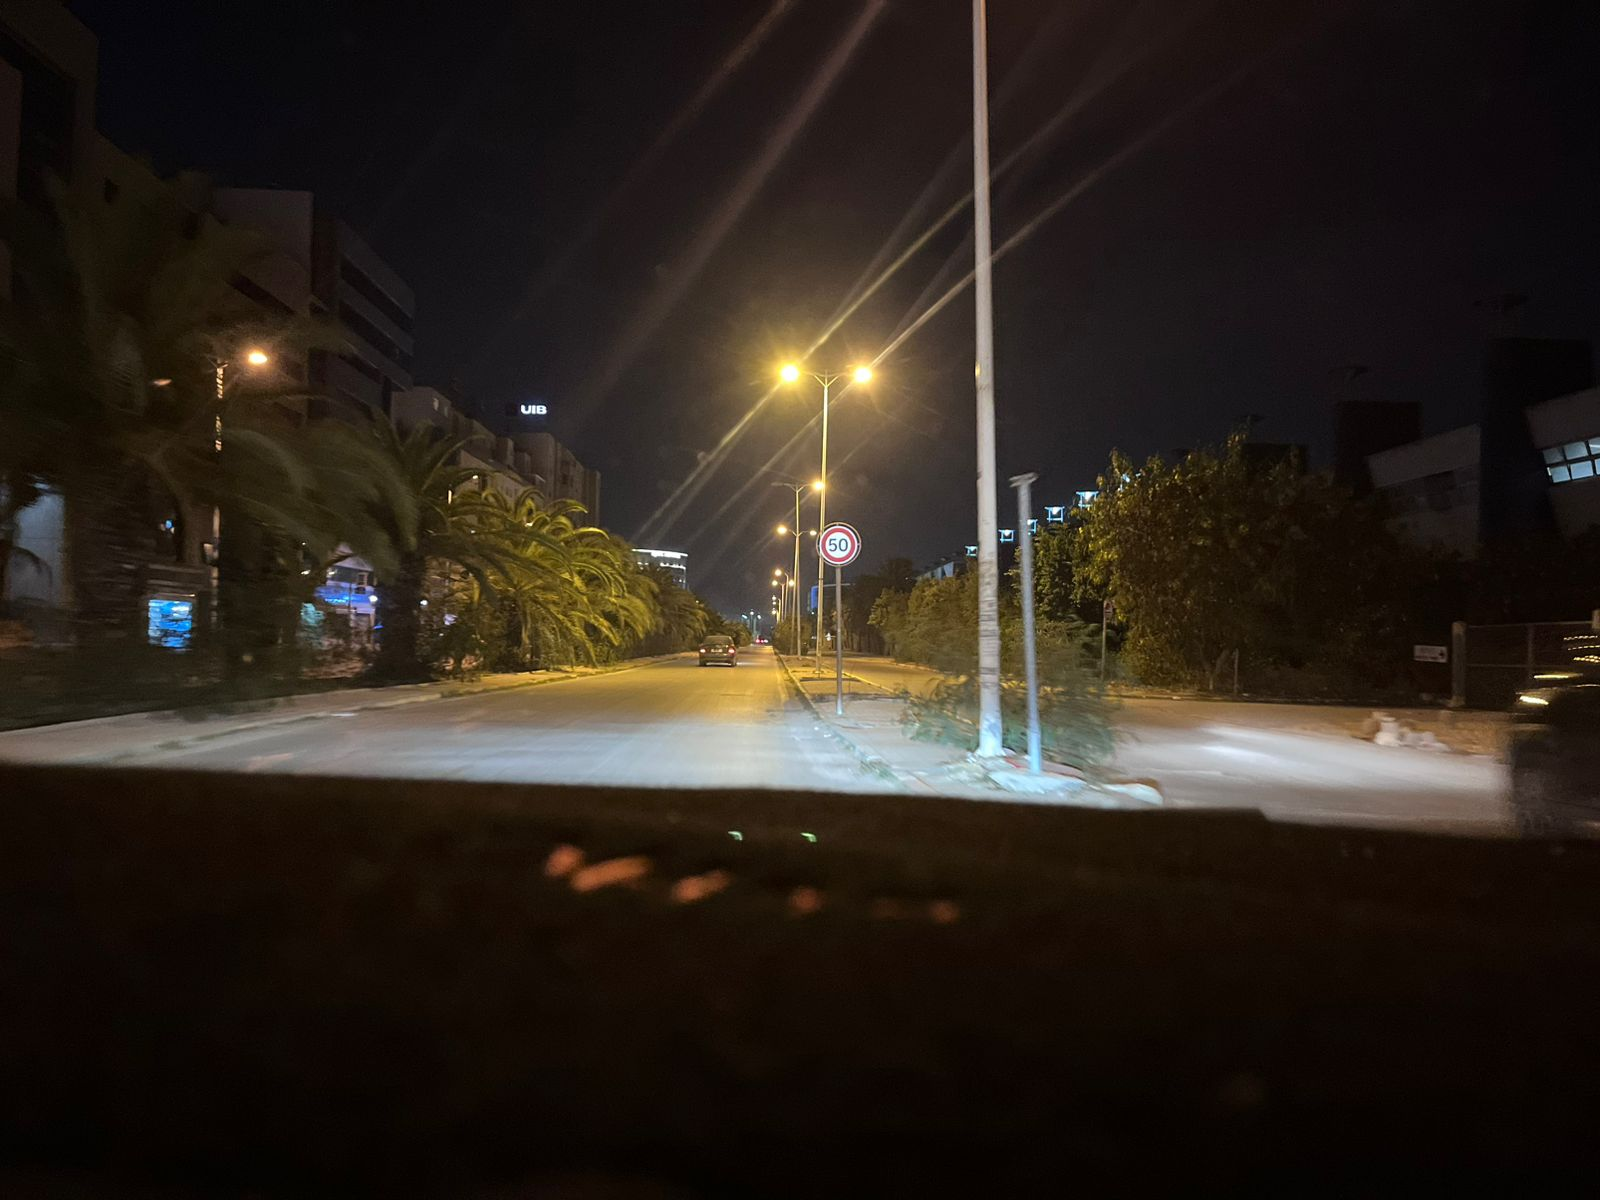SpeedLimit50: (815, 522, 860, 568)
